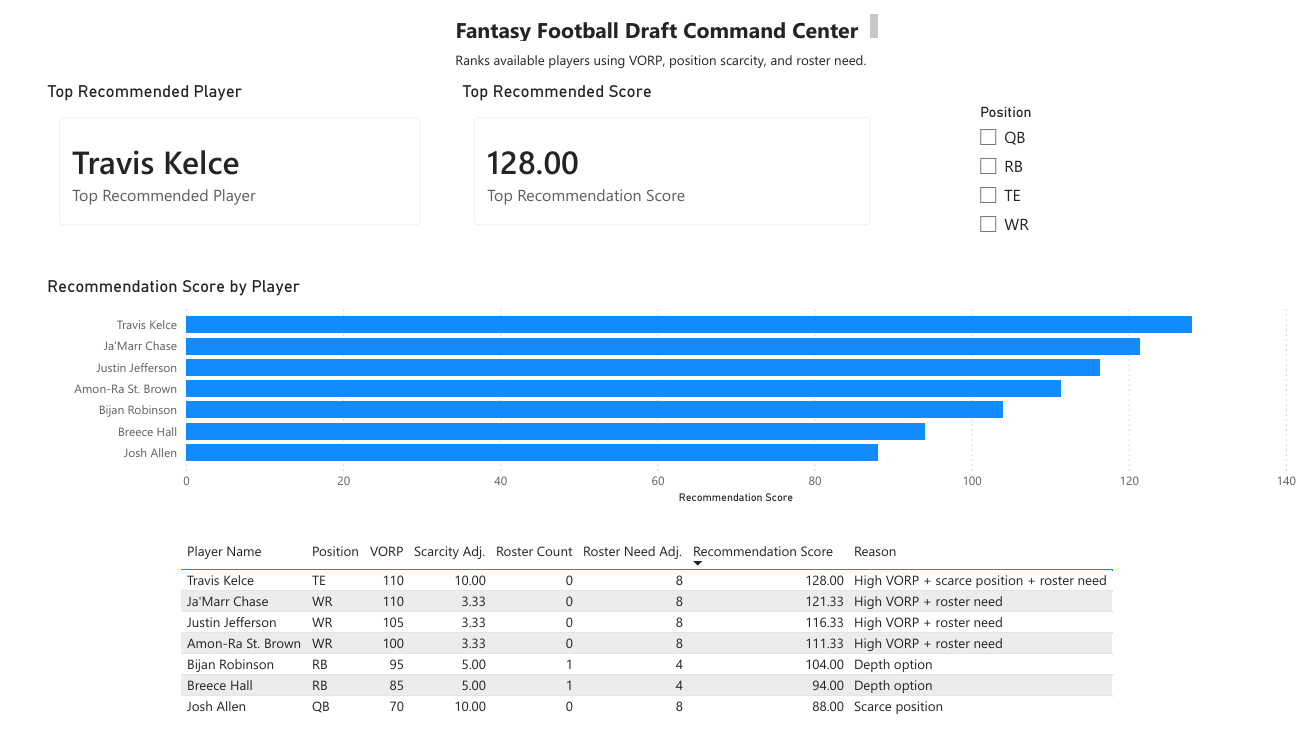

This screenshot's page, from the dashboard's own definition file:
{"tool":"powerbi","page":{"name":"Draft Command Center","canvas":[1280,720],"ordinal":0},"visuals":[{"type":"textbox","box":[417.2,0,444.6,35.7],"z":0},{"type":"textbox","box":[417.2,35.7,444.6,35.7],"z":1},{"type":"tableEx","fields":{"Values":["draft_recommendations.player_name","draft_recommendations.position","Sum(draft_recommendations.vorp)","Sum(draft_recommendations.scarcity_adjustment)","Sum(draft_recommendations.roster_count)","Sum(draft_recommendations.roster_need_adjustment)","Sum(draft_recommendations.recommendation_score)","draft_recommendations.recommendation_reason"]},"box":[20.8,272.7,1259.5,215.2],"z":2},{"type":"clusteredBarChart","title":"Recommendation Score by Player","fields":{"Category":["draft_recommendations.player_name"],"Y":["Sum(draft_recommendations.recommendation_score)"]},"box":[0,457.3,1280.3,262.9],"z":3},{"type":"slicer","fields":{"Values":["draft_recommendations.position"]},"box":[947.7,70.9,297.1,201.8],"z":4},{"type":"cardVisual","title":"Top Recommended Player","fields":{"Data":["draft_recommendations.Top Recommended Player"]},"box":[20.8,80.7,441.4,192],"z":5},{"type":"cardVisual","title":"Top Recommended Score","fields":{"Data":["draft_recommendations.Top Recommendation Score"]},"box":[462.2,70.9,434.1,201.8],"z":6}]}

Visuals, with their boxes in screenshot pixels (x1, y1, x2, y2), scaled from the page's 1280x720 canvas onto the 1311x747 screenshot:
textbox: [427, 0, 883, 37]
textbox: [427, 37, 883, 74]
tableEx - draft_recommendations.player_name x draft_recommendations.position: [21, 283, 1310, 506]
"Recommendation Score by Player" clusteredBarChart: [0, 474, 1310, 746]
slicer - draft_recommendations.position: [971, 74, 1275, 283]
"Top Recommended Player" cardVisual: [21, 84, 473, 283]
"Top Recommended Score" cardVisual: [473, 74, 918, 283]
